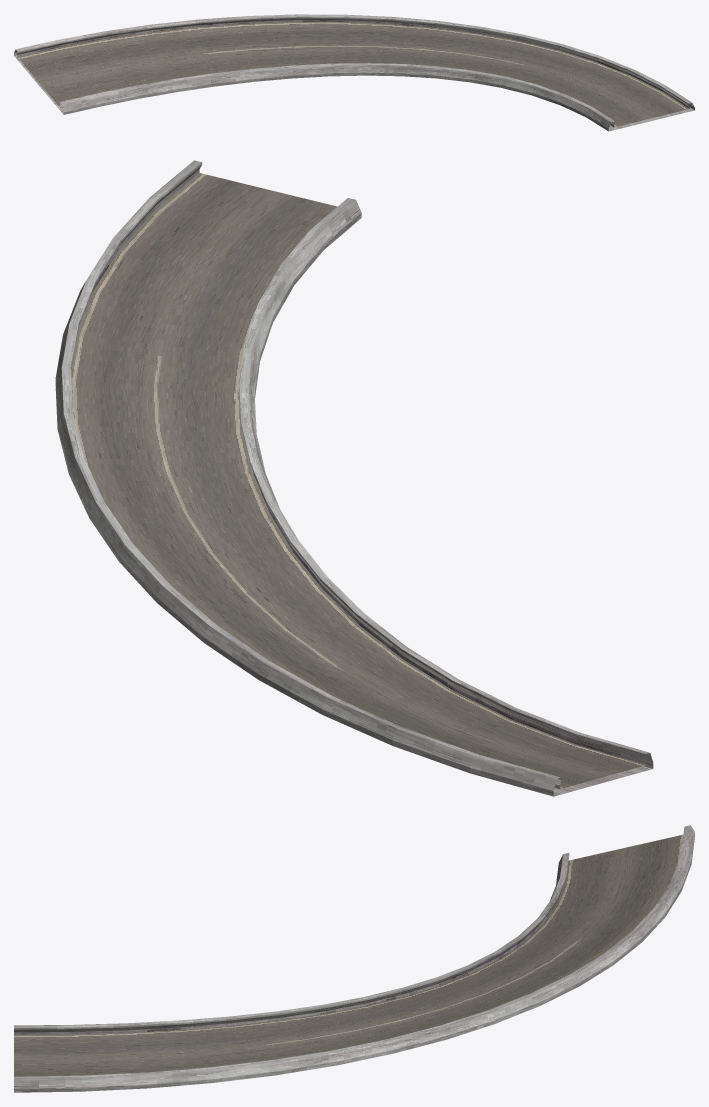
Rendered from road-Turn-Flat-HalfBankedLeft-Down2-Left-Size5.glb.
3 views of the same model, one above another, from view 1: azimuth 30°, elevation 25°; view 2: azimuth 150°, elevation 25°; view 3: azimuth 270°, elevation 25° (orthographic). The views are drawn at different scales.
Visible parts, largest first — view 1: road-Turn-Flat-HalfBankedLeft-Down2-Left-Size5; view 2: road-Turn-Flat-HalfBankedLeft-Down2-Left-Size5; view 3: road-Turn-Flat-HalfBankedLeft-Down2-Left-Size5.
Part boxes in pixels (x1,y1,x2,y2): road-Turn-Flat-HalfBankedLeft-Down2-Left-Size5: (14, 14, 694, 131); road-Turn-Flat-HalfBankedLeft-Down2-Left-Size5: (55, 160, 653, 796); road-Turn-Flat-HalfBankedLeft-Down2-Left-Size5: (14, 825, 694, 1092).
Bounding box in the file's own units: 5 × 0.5938 × 5.
2 materials, 2 textured.
